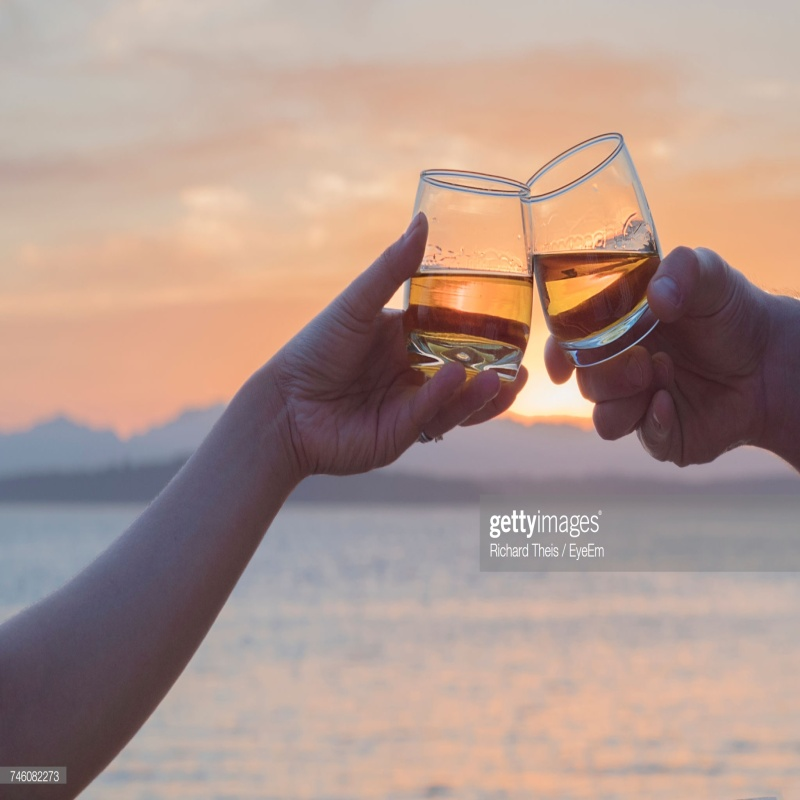whiskey: (532, 130, 659, 358), (414, 161, 533, 388)
